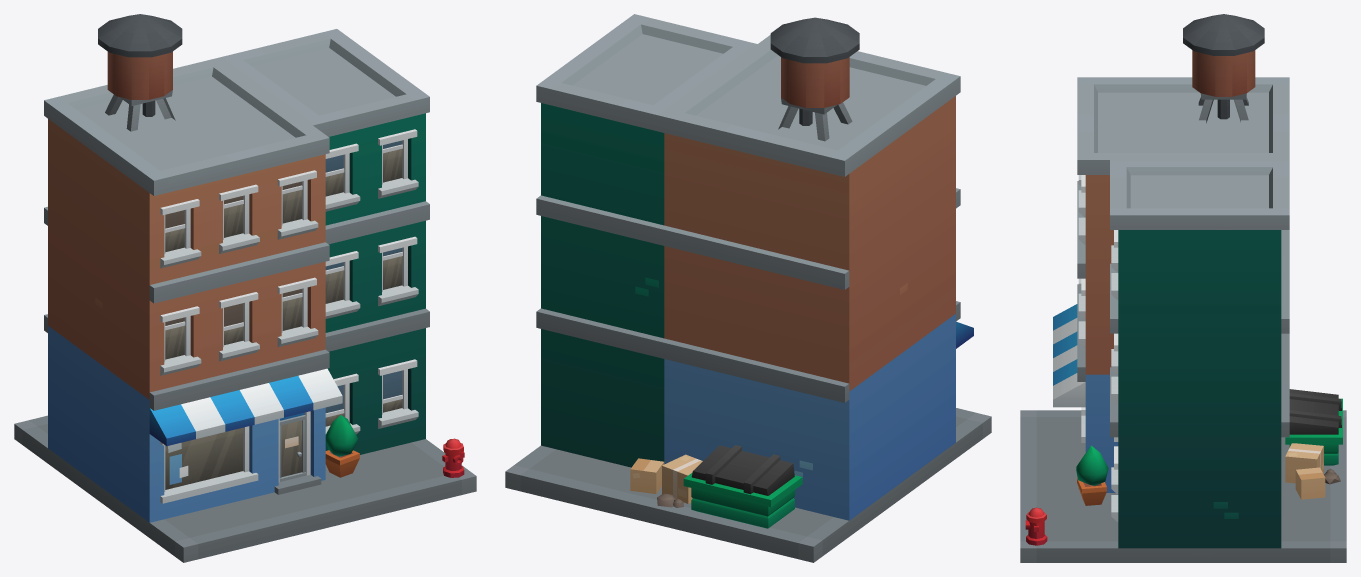
The model's file is building_free_model_b_b_b_b.glb.
3 views of the same model, side by side, from view 1: azimuth 30°, elevation 25°; view 2: azimuth 150°, elevation 25°; view 3: azimuth 270°, elevation 25° (orthographic). The views are drawn at different scales.
Parts seen in each view (by area): view 1: building_G; view 2: building_G; view 3: building_G.
Part boxes in pixels (left/top/right/bottom): building_G: left=14, top=14, right=476, bottom=562; building_G: left=505, top=14, right=991, bottom=562; building_G: left=1020, top=14, right=1346, bottom=562.
Bounding box in the file's own units: 2.01 × 2.98 × 2.
Materials: 1 (1 with a texture image).
